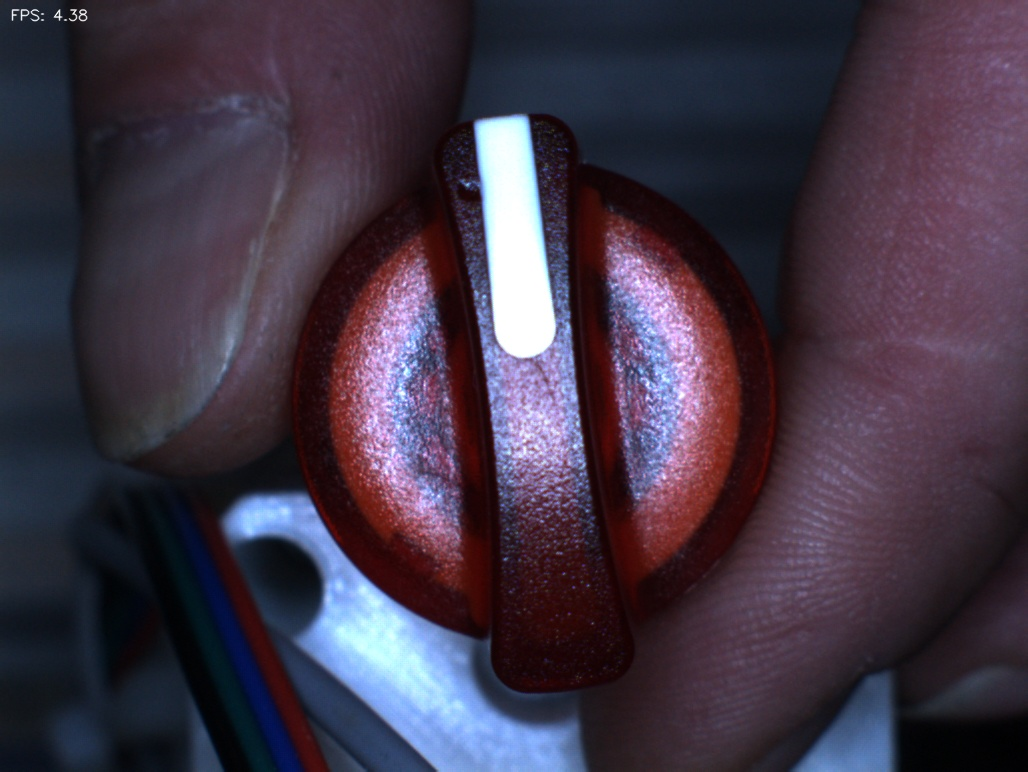Choc: (426, 153, 501, 228)
